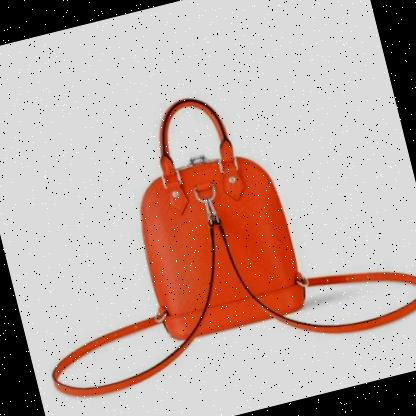bag: (106, 74, 324, 376)
